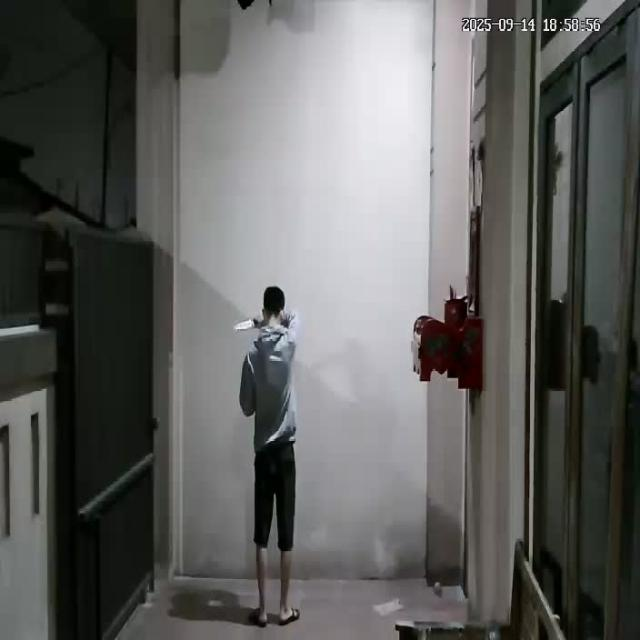senjata_tajam: (232, 317, 257, 331)
